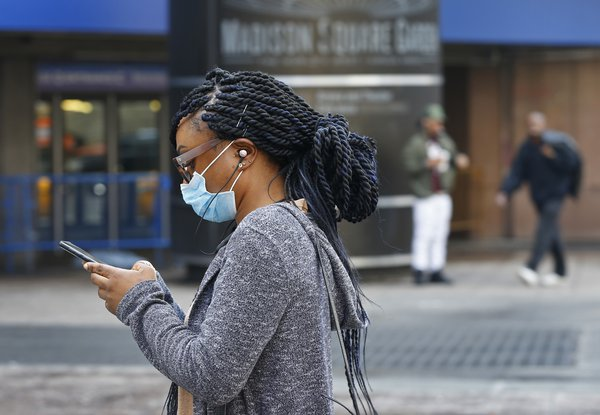mask: (162, 170, 247, 226)
